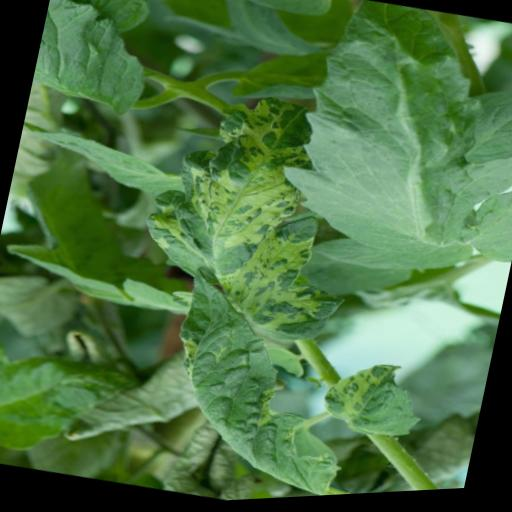Healthy: (250, 0, 512, 308), (26, 0, 163, 126)
Mosaic Virus: (123, 70, 384, 358), (146, 258, 377, 506), (314, 352, 432, 452)
